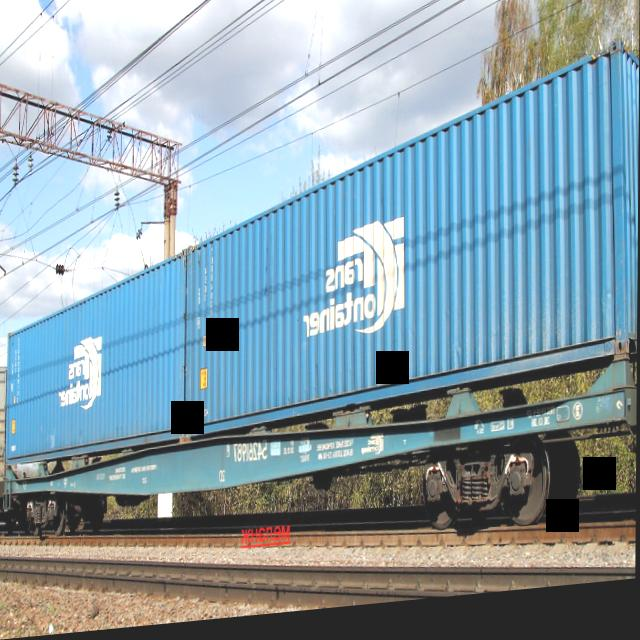container: (185, 42, 639, 457), (3, 242, 185, 480)
flatcar: (3, 374, 638, 588)
